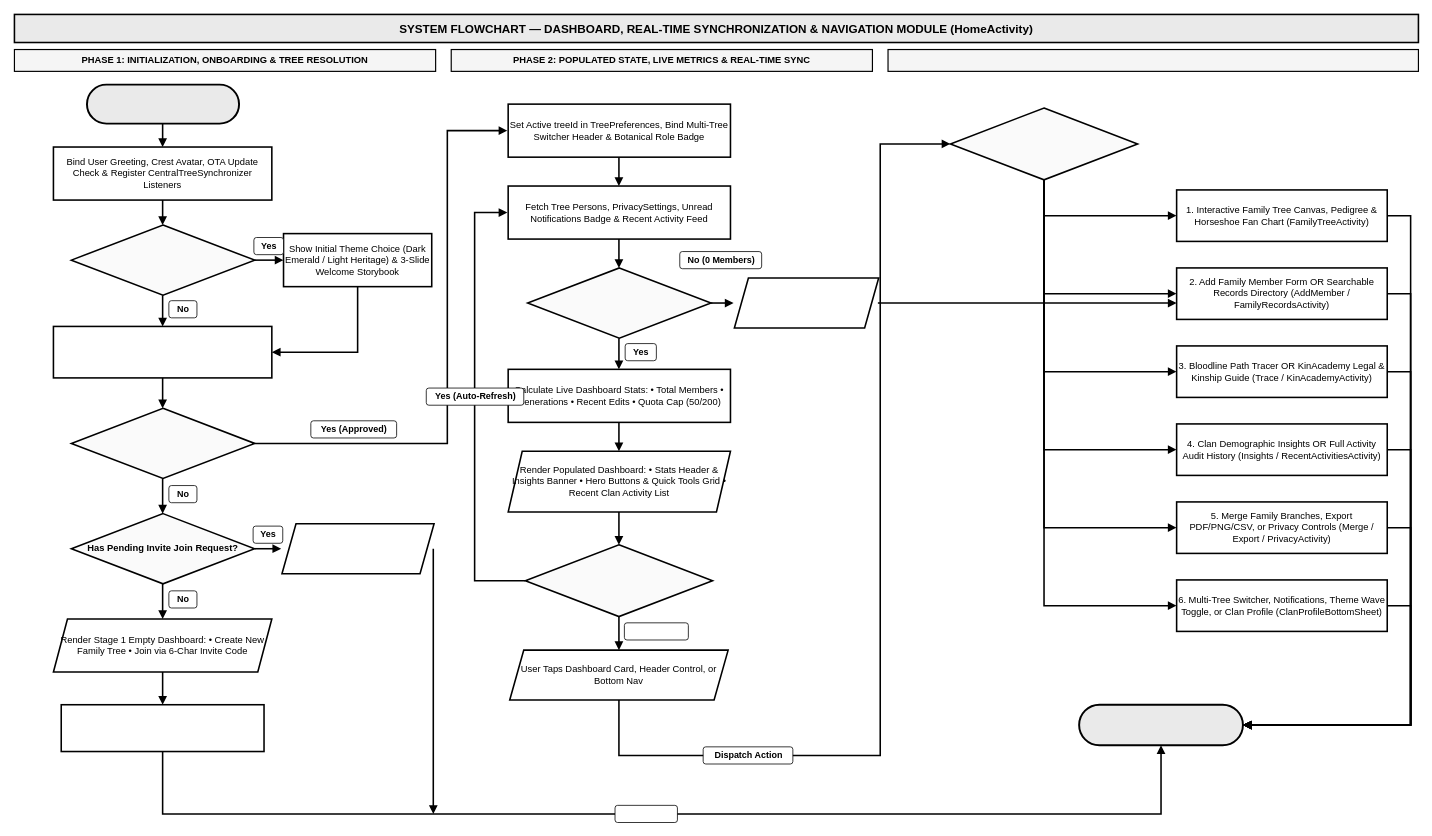
Image size: 1432x836. Some labels were removed from this diagram. The box of each missing label's shape, as (x1, y1, x2, y2) in pixels:
Display Pending Approval Card (Animated Hourglass & Withdraw): (281, 523, 434, 574)
END (Open Target Screen): (1078, 703, 1244, 746)
Evaluate Selected Dashboard Action: (949, 107, 1138, 180)
First-Time User Onboarding Unseen?: (70, 224, 255, 296)
Has Approved Family Tree?: (70, 407, 255, 479)
Navigate: (614, 805, 677, 823)
No (Ready): (624, 622, 688, 640)
PHASE 3: DASHBOARD QUICK-ACTION & MODULE DISPATCH ROUTER: (887, 49, 1419, 72)
Query FirestoreHelper: getUserTrees(uid) & getUserPendingJoinRequests(uid): (52, 325, 272, 378)
Real-Time Sync Event or Role Change?: (524, 544, 713, 617)
Route to CreateTreeActivity or JoinTreeActivity: (60, 704, 264, 752)
Show Stage 2 Empty Tree Prompt: 'Add First Family Member': (733, 277, 879, 328)
START (Launch HomeActivity): (86, 83, 240, 124)
Tree Has Recorded Members (> 0)?: (526, 267, 711, 339)
